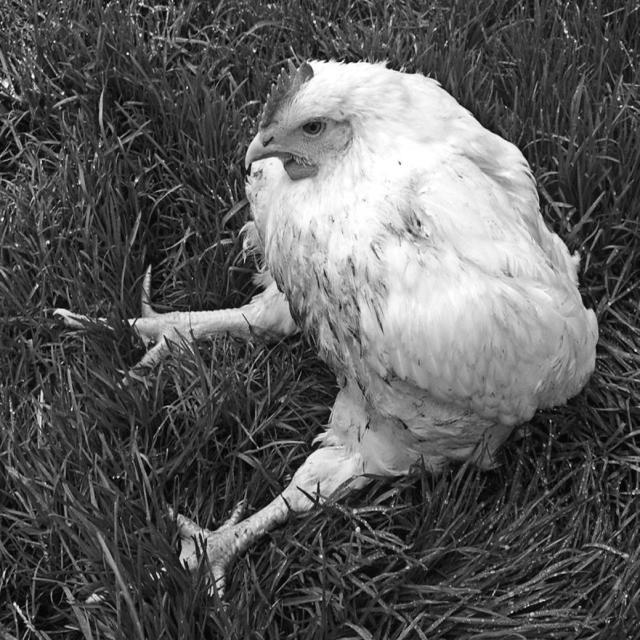AbNormal: (53, 59, 598, 608)
